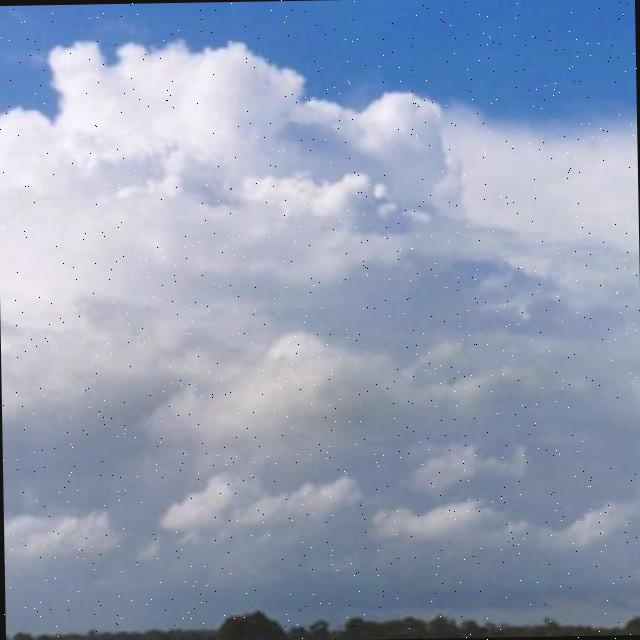St: (1, 2, 640, 608)
